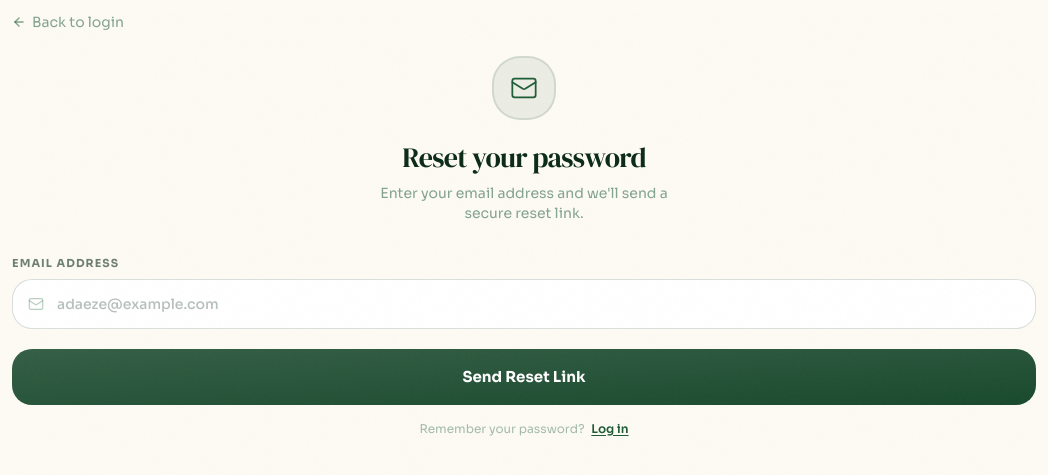
Test case: ForgotPassword › Validation › shows error when email format is invalid
The image size is (1048, 475).
Step 1. Type "notanemail" into the field with placeholder "adaeze@example.com" → [524, 304], box [12, 279, 1036, 329]
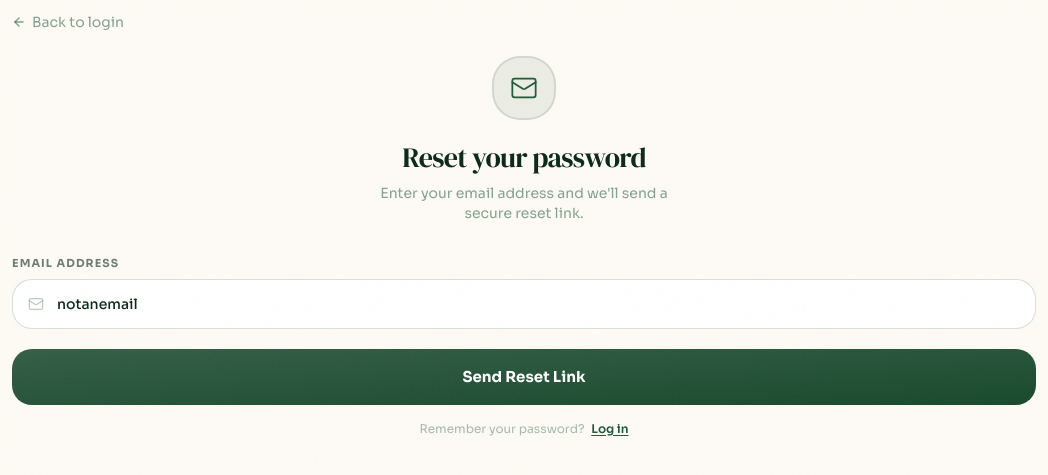
Step 2. Click the button "Send Reset Link" → [524, 377], box [12, 349, 1036, 405]
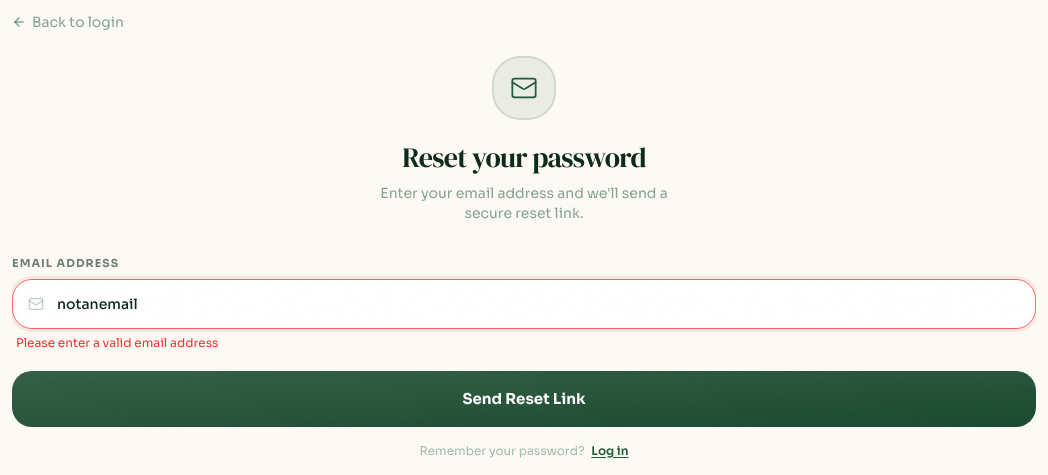
Expected: the text "Please enter a valid email address" is shown, [16, 335, 218, 350]
